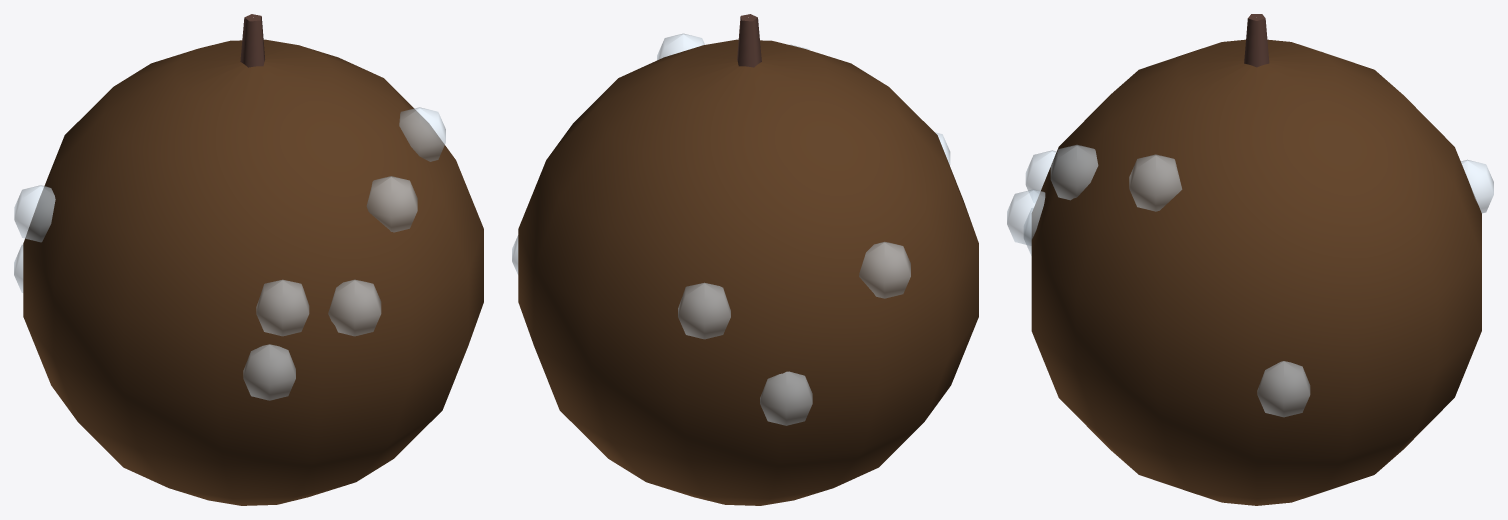
The model's file is fruit-coconut-wet.gltf.
3 views of the same model, side by side, from view 1: azimuth 30°, elevation 25°; view 2: azimuth 150°, elevation 25°; view 3: azimuth 270°, elevation 25° (orthographic).
Size of the model in its own units: 0.5845 by 0.616 by 0.5812.
